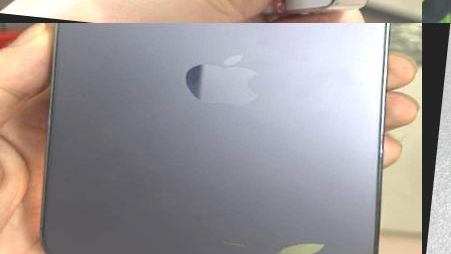scratch: (269, 228, 330, 254), (209, 228, 261, 254)
